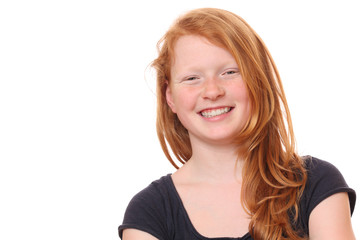teen: (158, 7, 273, 152)
